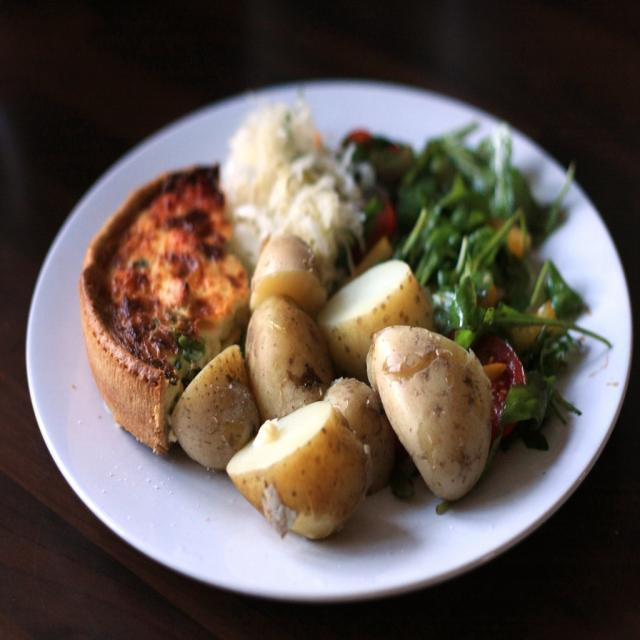Potato: (171, 227, 495, 539)
